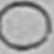correct: (0, 0, 53, 51)
